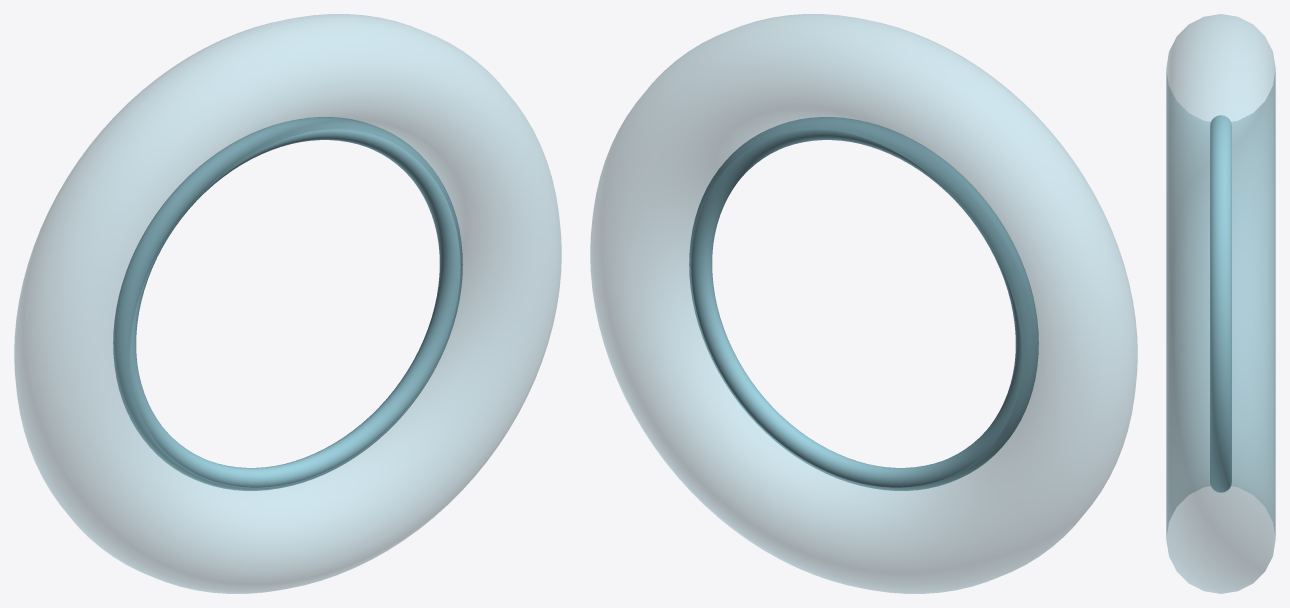
3 renders of one model, left to right at view 1: azimuth 30°, elevation 25°; view 2: azimuth 150°, elevation 25°; view 3: azimuth 270°, elevation 25°, orthographic. The views are drawn at different scales.
Parts seen in each view (by area): view 1: circular-frame, inner-attachment; view 2: circular-frame, inner-attachment; view 3: circular-frame, inner-attachment.
Part boxes in pixels (box(x1,y1,x2,y2)): circular-frame: box(14, 14, 561, 593); inner-attachment: box(113, 117, 462, 490); circular-frame: box(590, 14, 1137, 593); inner-attachment: box(689, 117, 1038, 490); circular-frame: box(1166, 14, 1275, 593); inner-attachment: box(1210, 115, 1231, 492).
Bounding box in the file's own units: 2.12 × 2.12 × 0.4.
